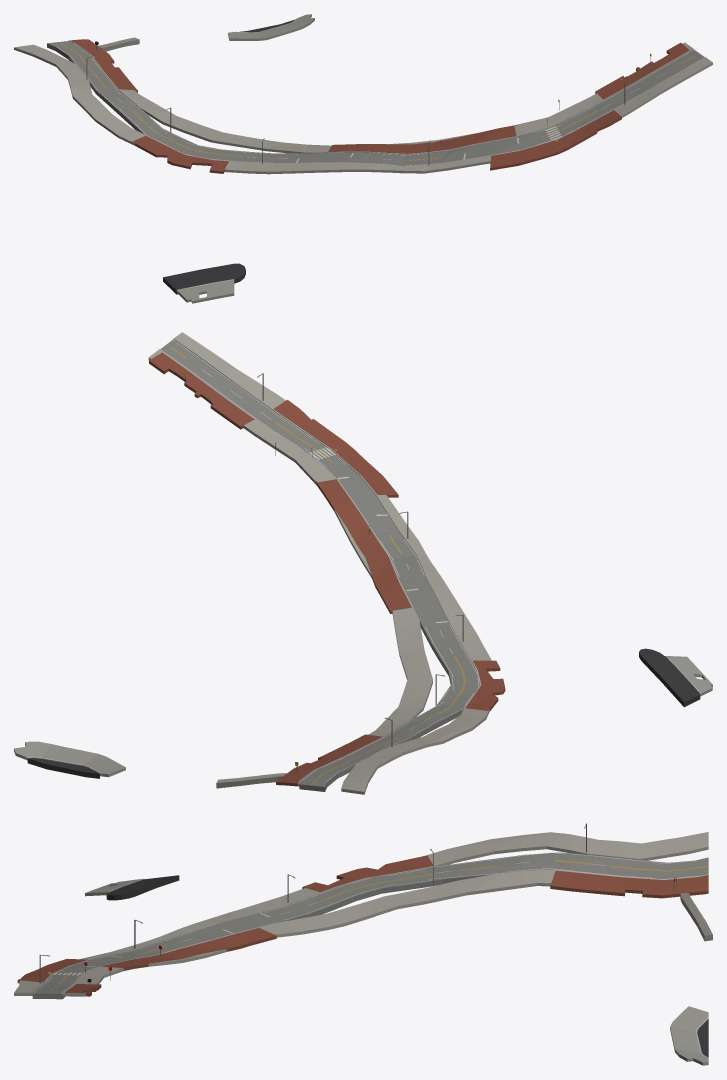
The model's file is 18-218860-118950.dfeef022.glb.
3 renders of one model, top to bottom at view 1: azimuth 30°, elevation 25°; view 2: azimuth 150°, elevation 25°; view 3: azimuth 270°, elevation 25°, orthographic. The views are drawn at different scales.
Size of the model in its own units: 148 by 43.93 by 144.
